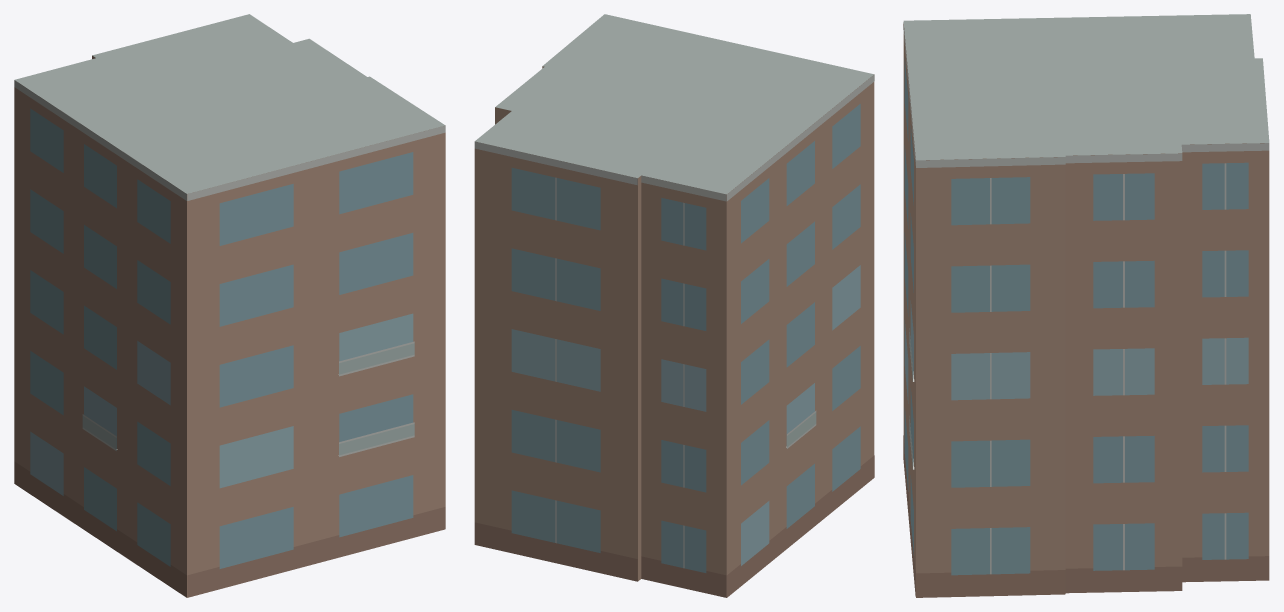
Rendered from survey-upis-33021355.glb.
3 renders of one model, left to right at view 1: azimuth 30°, elevation 25°; view 2: azimuth 150°, elevation 25°; view 3: azimuth 270°, elevation 25°, orthographic. The views are drawn at different scales.
Parts seen in each view (by area): view 1: survey-upis-33021355.tmp; view 2: survey-upis-33021355.tmp; view 3: survey-upis-33021355.tmp.
Boxes of the visible parts, left/top/right/bottom form: survey-upis-33021355.tmp: left=14, top=14, right=445, bottom=597; survey-upis-33021355.tmp: left=474, top=14, right=874, bottom=597; survey-upis-33021355.tmp: left=903, top=14, right=1269, bottom=597.
Size of the model in its own units: 9.91 by 13.8 by 10.47.
